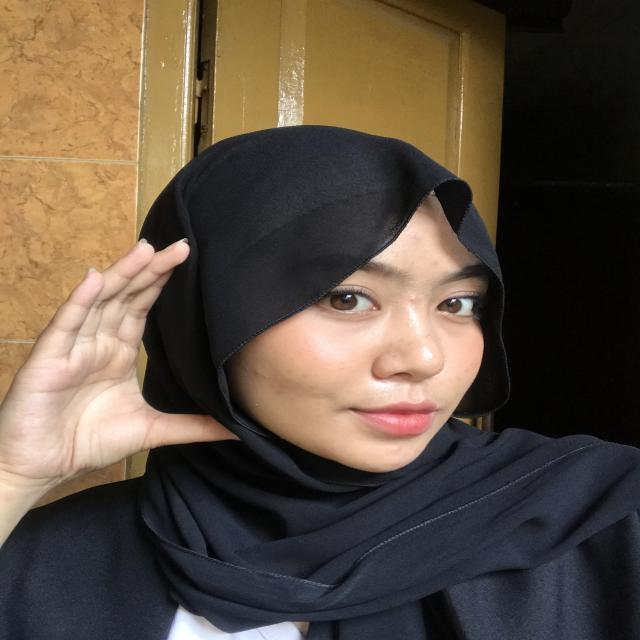mendengar: (9, 230, 238, 516)
